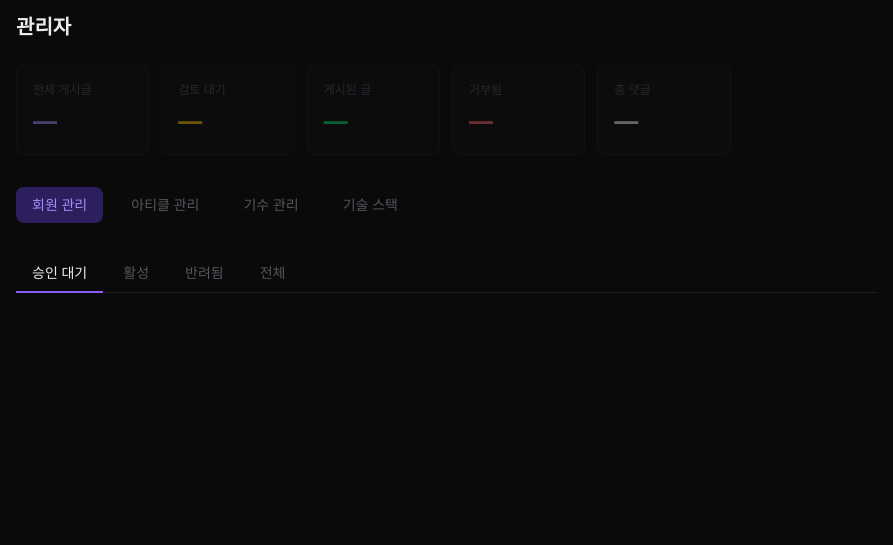
Test: AdminPage - 아티클 관리 › 거부 버튼 클릭시 인라인 사유 입력창이 나타난다
Click the button "아티클 관리" at [165, 205], box x1=115 y1=187 x2=215 y2=223
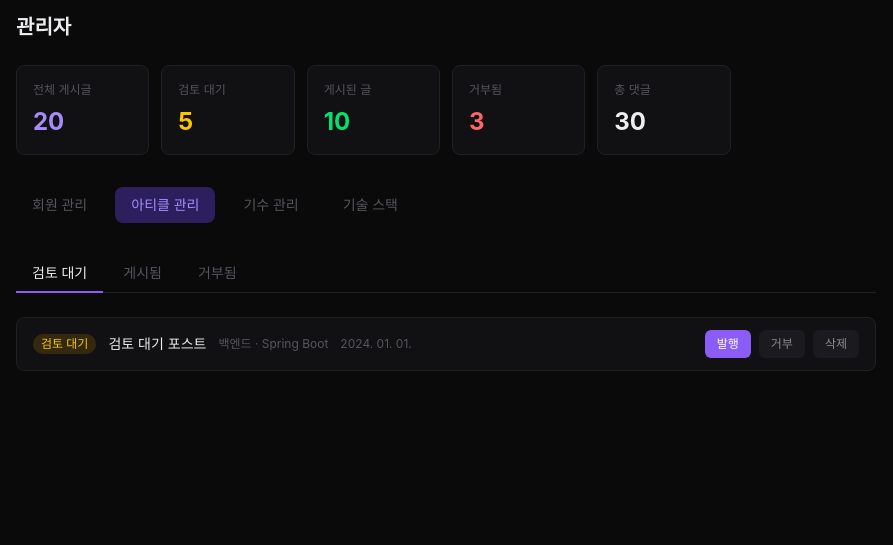
Check: the button "거부" is shown
Click the button "거부" at [782, 344], box x1=759 y1=330 x2=805 y2=358
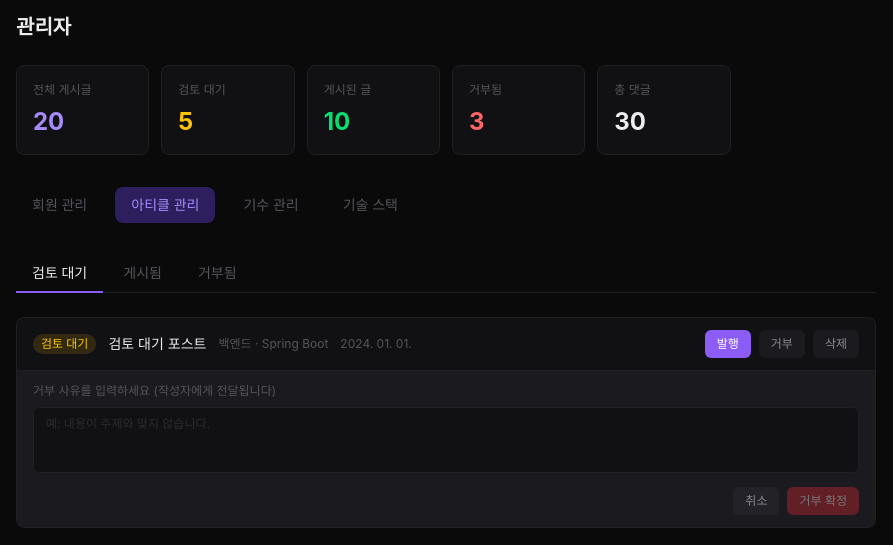
Check: the text "거부 사유를 입력하세요 (작성자에게 전달됩니다)" is shown, box x1=33 y1=383 x2=276 y2=398
